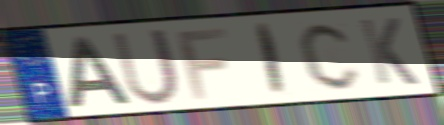A: (67, 35, 133, 110)
C: (297, 19, 364, 92)
F: (174, 25, 231, 102)
I: (254, 20, 288, 98)
K: (356, 15, 422, 87)
U: (109, 26, 183, 108)
